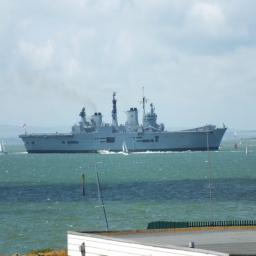Portanaves: (19, 86, 229, 156)
